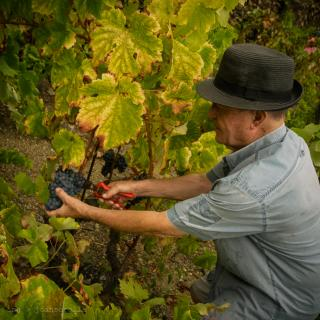Grape: (44, 164, 84, 212), (125, 170, 150, 208), (101, 150, 130, 176)
